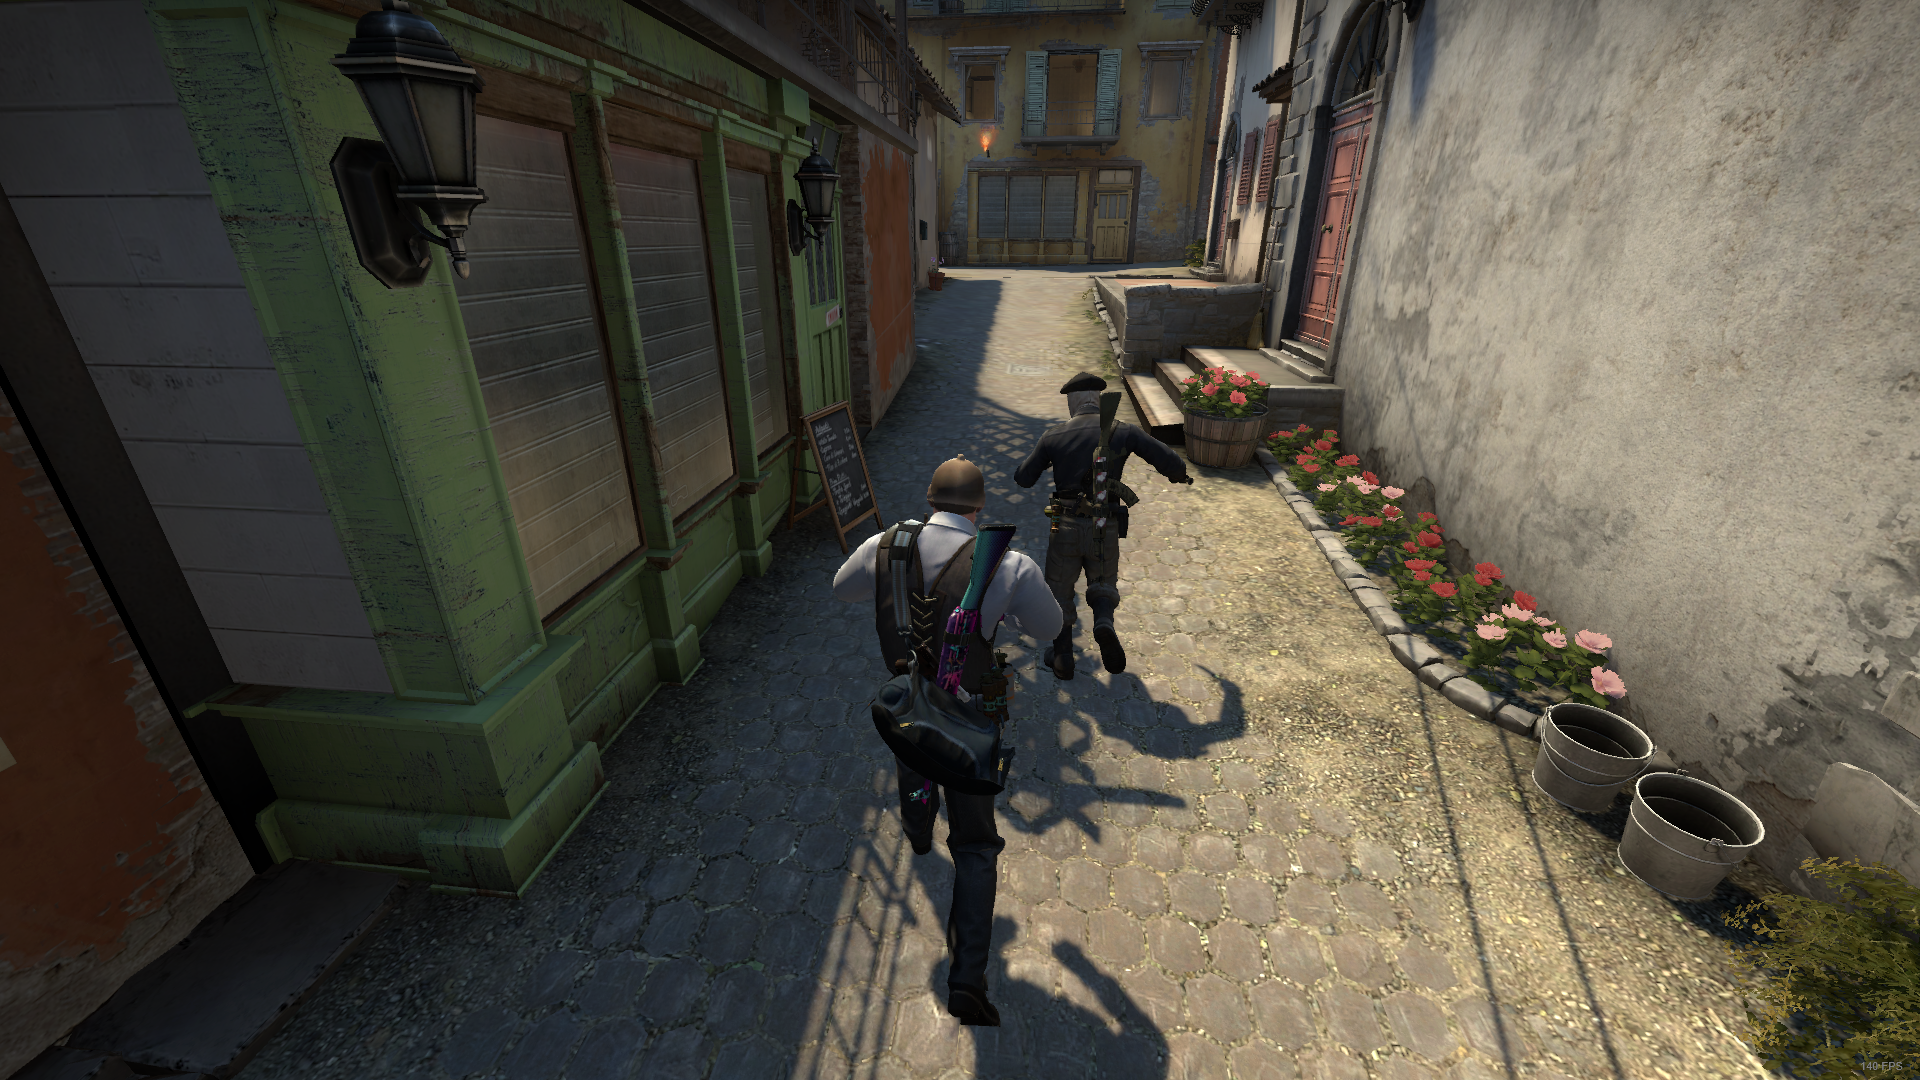t: (1011, 371, 1196, 691)
